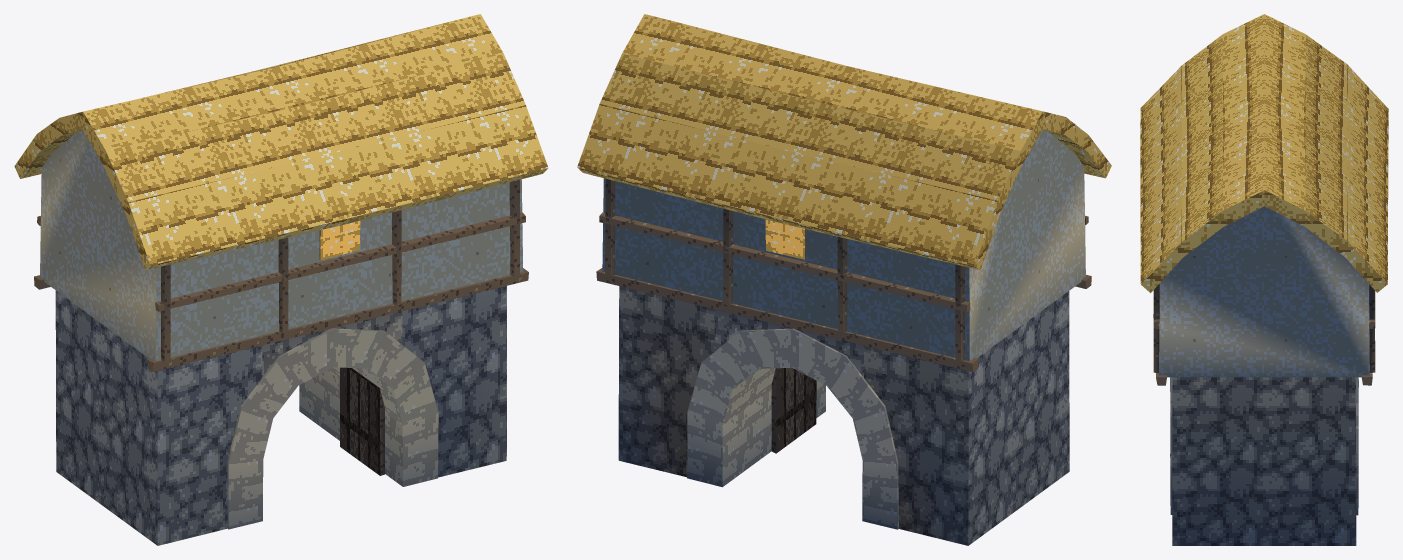
Rendered from vlg.gatehouse__open.glb.
3 renders of one model, left to right at view 1: azimuth 30°, elevation 25°; view 2: azimuth 150°, elevation 25°; view 3: azimuth 270°, elevation 25°, orthographic. The views are drawn at different scales.
Visible parts, largest first — view 1: kit_roof, kit_stonework, kit_walls, kit_frame, kit_fittings; view 2: kit_roof, kit_stonework, kit_walls, kit_frame, kit_fittings; view 3: kit_roof, kit_stonework, kit_walls, kit_frame.
Boxes of the visible parts, left/top/right/bottom form: kit_roof: left=14, top=14, right=548, bottom=270; kit_stonework: left=55, top=286, right=506, bottom=545; kit_walls: left=40, top=130, right=523, bottom=361; kit_frame: left=34, top=180, right=528, bottom=371; kit_fittings: left=319, top=220, right=384, bottom=475; kit_roof: left=577, top=14, right=1111, bottom=270; kit_stonework: left=618, top=286, right=1069, bottom=545; kit_walls: left=602, top=130, right=1085, bottom=361; kit_frame: left=596, top=179, right=1091, bottom=371; kit_fittings: left=765, top=219, right=816, bottom=453; kit_roof: left=1140, top=14, right=1388, bottom=293; kit_stonework: left=1170, top=377, right=1358, bottom=545; kit_walls: left=1159, top=206, right=1369, bottom=377; kit_frame: left=1153, top=284, right=1375, bottom=385.
Bounding box in the file's own units: 9.12 × 8.82 × 5.41.
8 materials, 8 textured.
